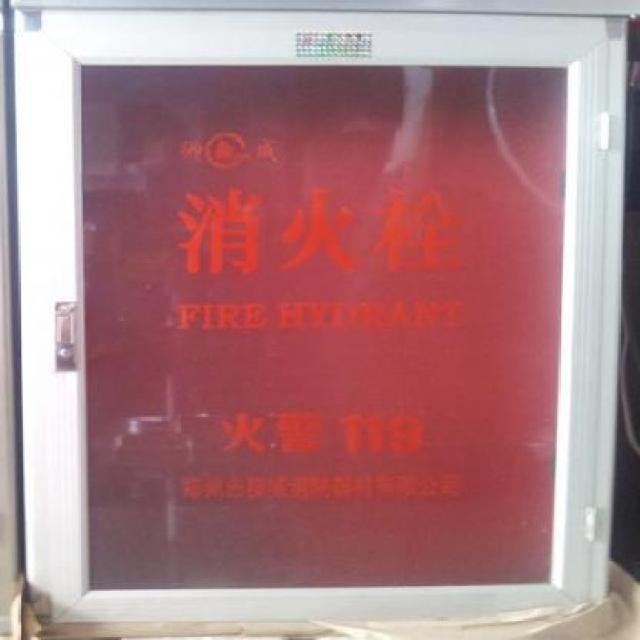firehydrant: (6, 0, 633, 640)
